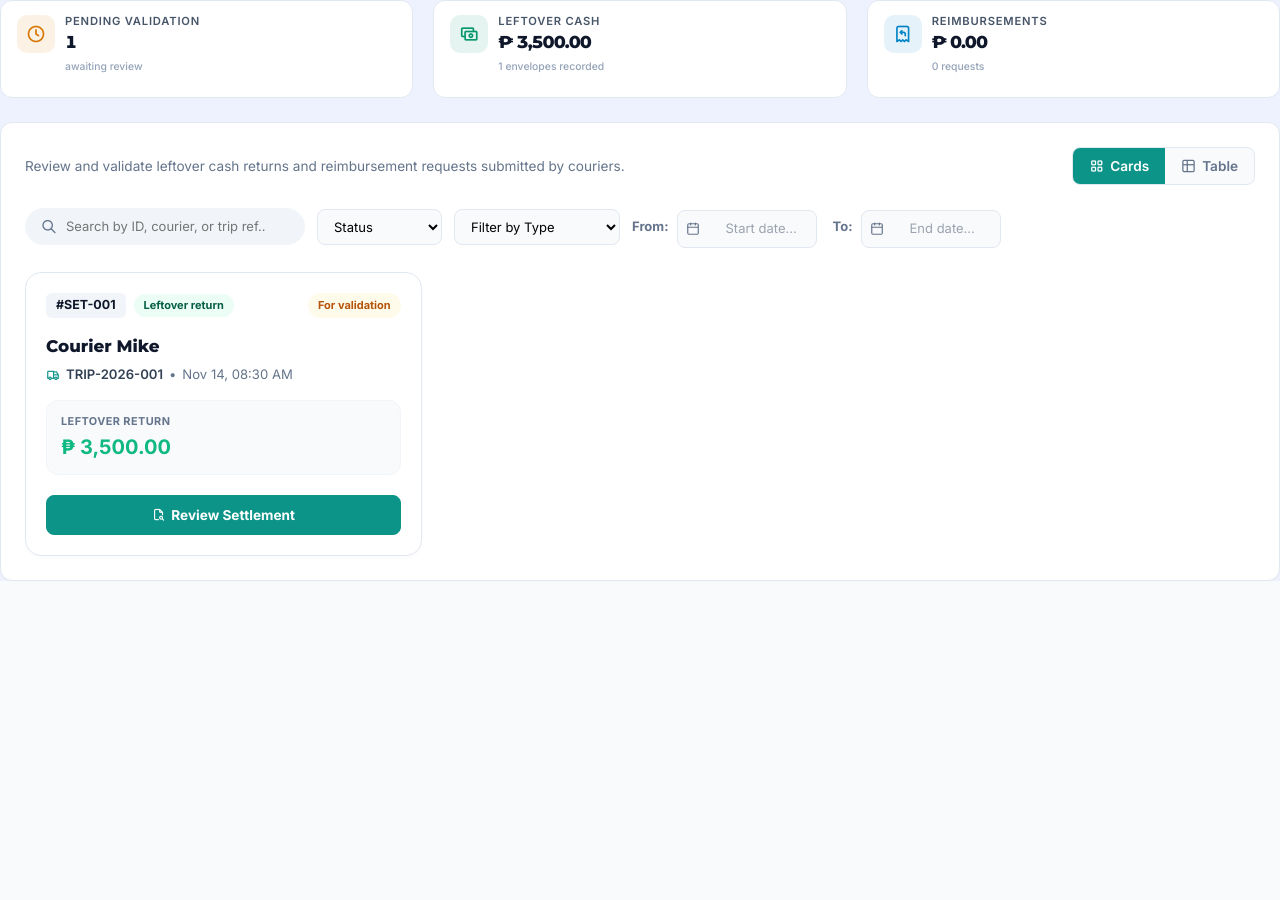
Test: EMP-001 (Finance Manager) — Complete Page-by-Page Workflow & Verification › Page 10: /settlements (Settlement Validation) › loads courier settlements and approves settlement calling update endpoint
Later steps or results of the test are not shown.
Expected: the heading "Courier Mike" is shown, [46,336,160,356]
Click the button "Review Settlement". click: {"x": 223, "y": 515}
box: [46,495,401,535]
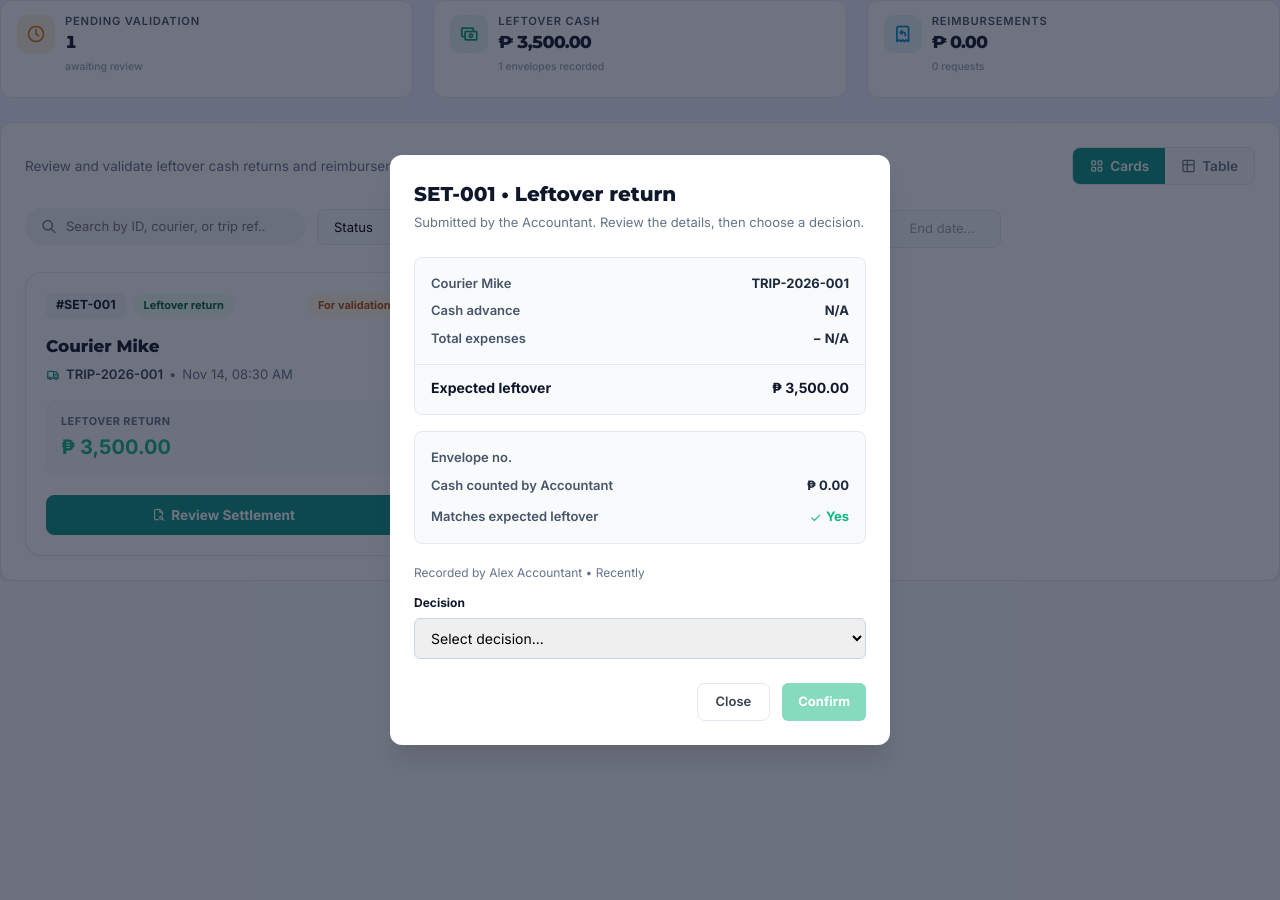
Now the text "Decision" is shown, box [414,595,465,610]
Select "✓ Validate" in the dropdown. click: {"x": 640, "y": 638}
box: [414,618,866,659]
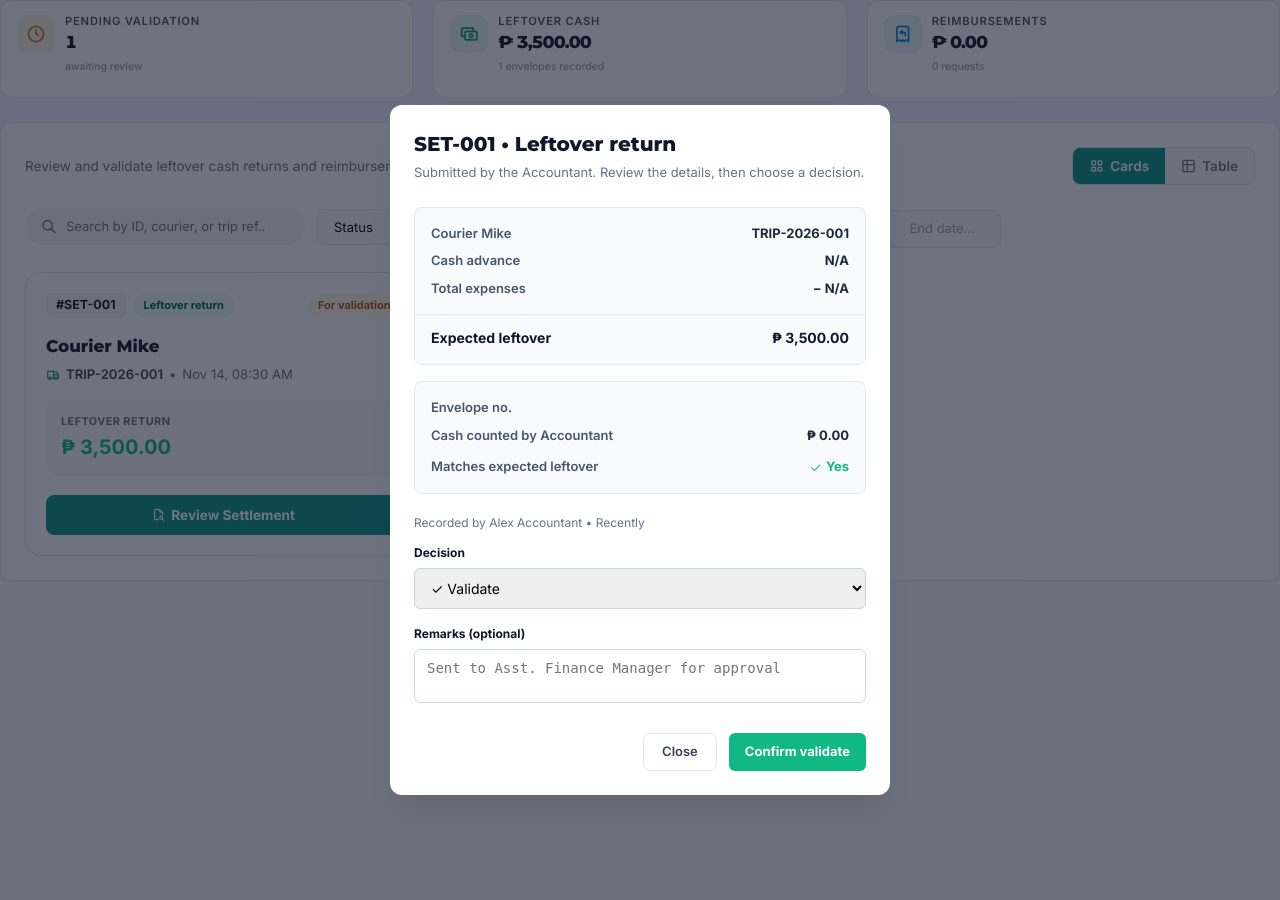
Now the button "Confirm validate" is shown, box [729,733,866,771]
